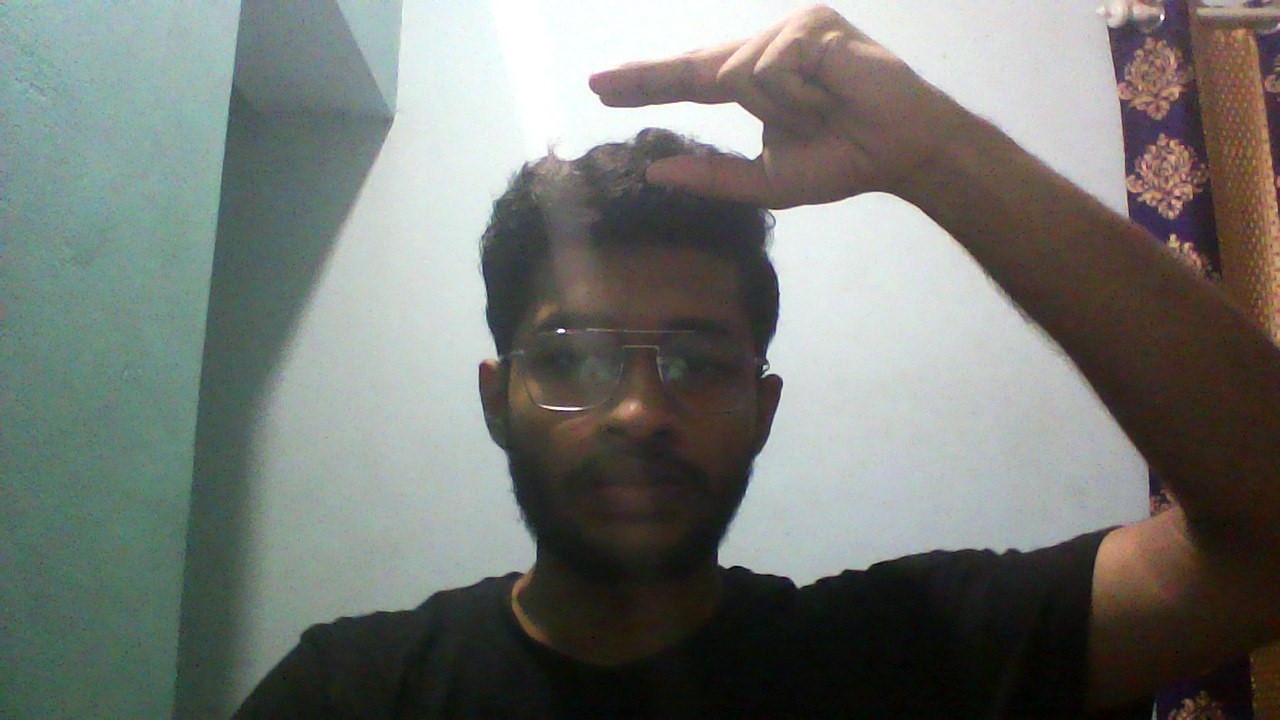No: (575, 1, 968, 212)
